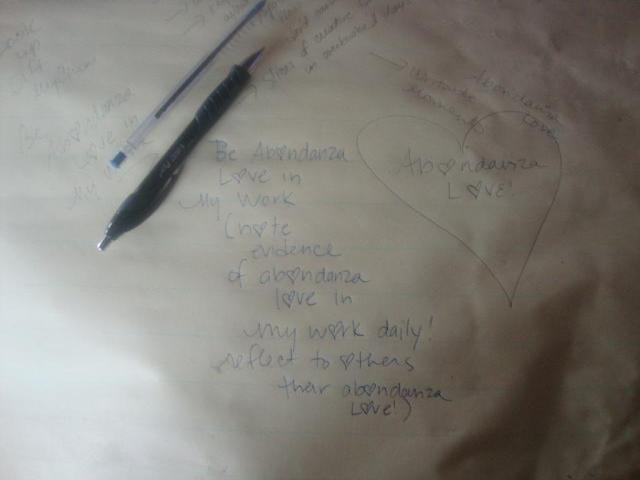PEN: (81, 23, 282, 264)
